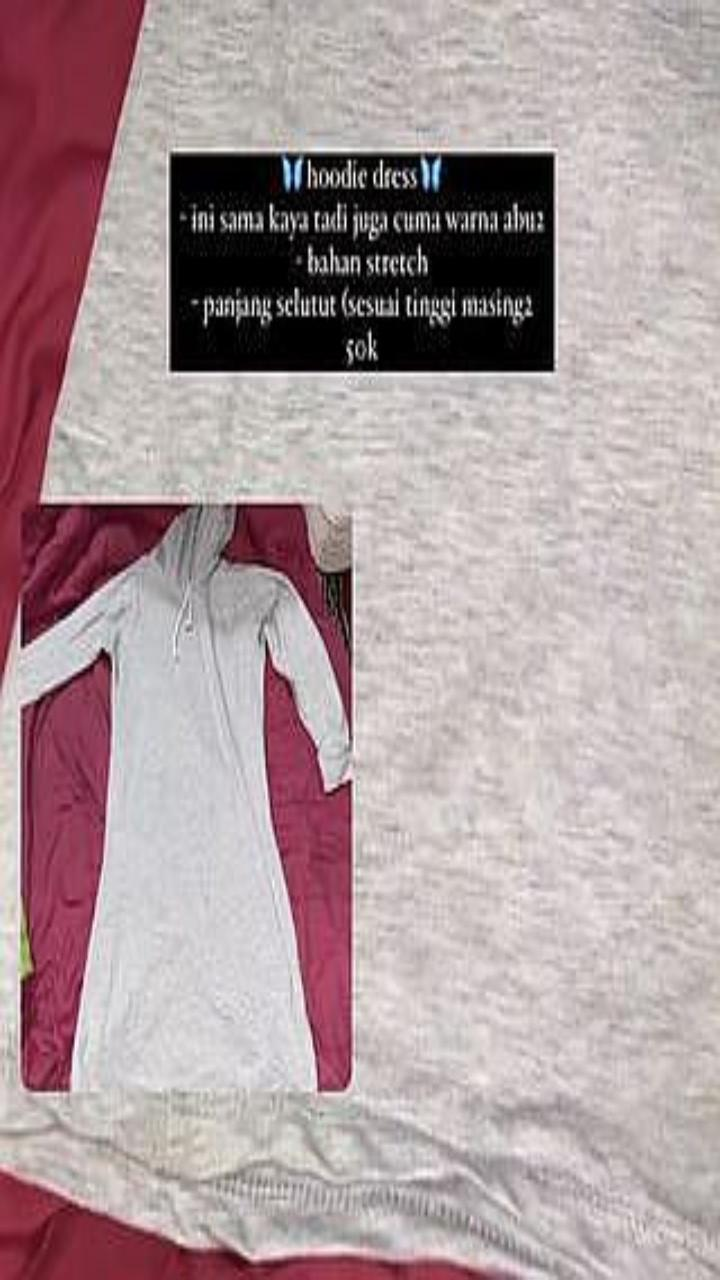Hoodie: (22, 505, 349, 1089)
